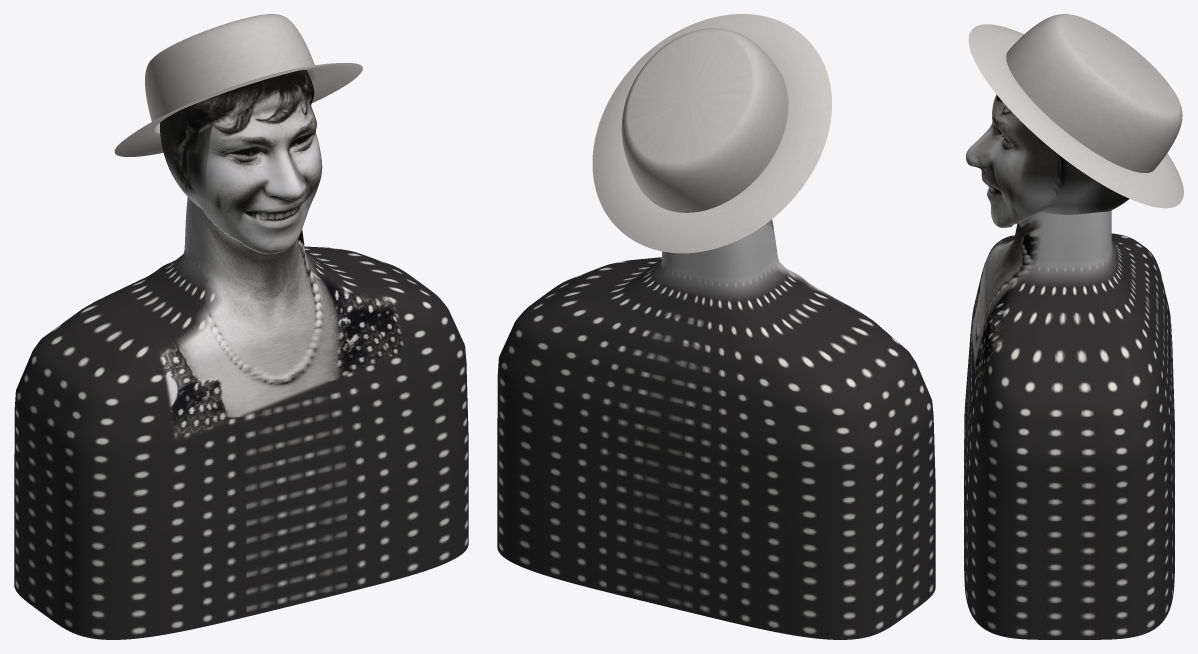
The model's file is bella_abzug.glb.
3 renders of one model, left to right at view 1: azimuth 30°, elevation 25°; view 2: azimuth 150°, elevation 25°; view 3: azimuth 270°, elevation 25°, orthographic. The views are drawn at different scales.
Parts seen in each view (by area): view 1: bust, head, crown, brim; view 2: bust, crown, brim; view 3: bust, crown, head, brim.
Boxes of the visible parts, x1=… form: bust: x1=14, y1=197, x2=468, y2=639; head: x1=160, y1=70, x2=322, y2=254; crown: x1=145, y1=14, x2=317, y2=133; brim: x1=114, y1=63, x2=362, y2=156; bust: x1=497, y1=219, x2=935, y2=639; crown: x1=621, y1=28, x2=788, y2=212; brim: x1=592, y1=14, x2=831, y2=253; bust: x1=964, y1=210, x2=1174, y2=639; crown: x1=1006, y1=14, x2=1182, y2=172; head: x1=965, y1=94, x2=1129, y2=227; brim: x1=968, y1=24, x2=1183, y2=208.
Bounding box in the file's own units: 0.48 × 0.632 × 0.2397.
Materials: 4 (4 with a texture image).
